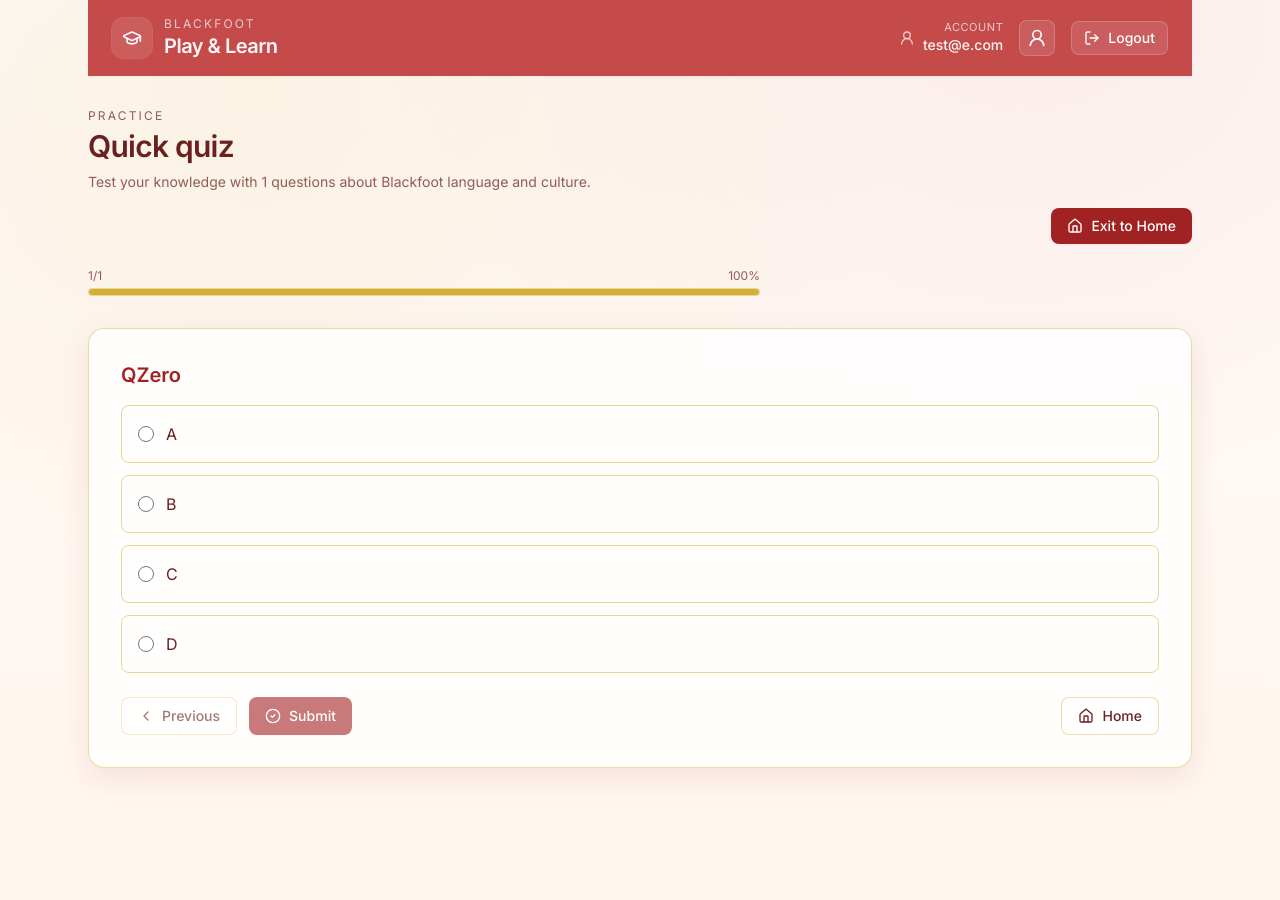
Test case: Quiz component › addQuizPointsForUser early return on zero points
The width and height of the screenshot is (1280, 900).
Check: the heading "QZero" is shown, box [121,363,181,387]
What coordinates should you click on to do the following:
click the radio button labelled "A"
I would click on:
 (146, 434)
Its box is [138,426,154,442].
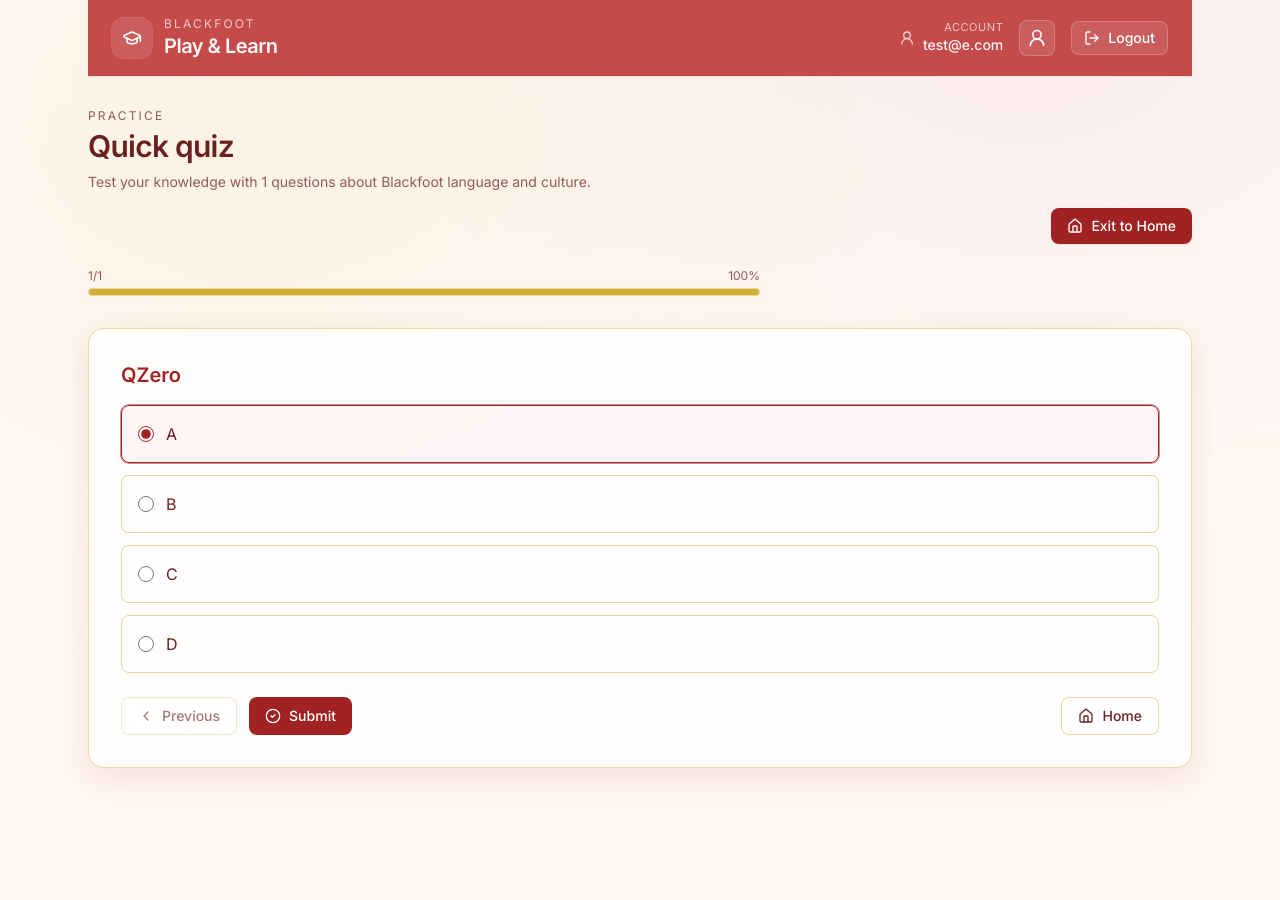
What coordinates should you click on to do the following:
click the button "Submit"
I would click on:
 (301, 716)
Its box is [249,697,352,735].
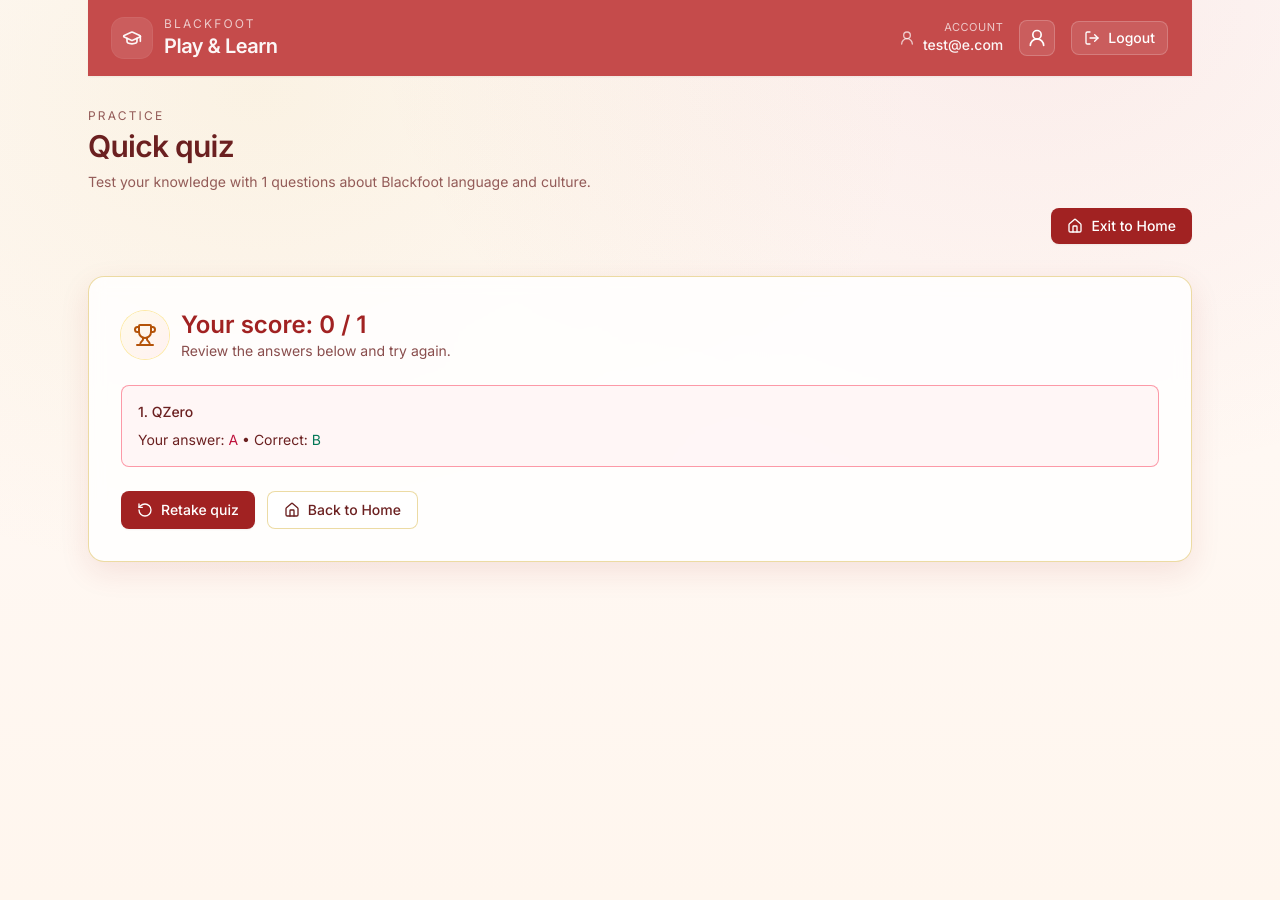
Check: the heading "Your score: 0 / 1" is shown, box [181,310,366,339]
